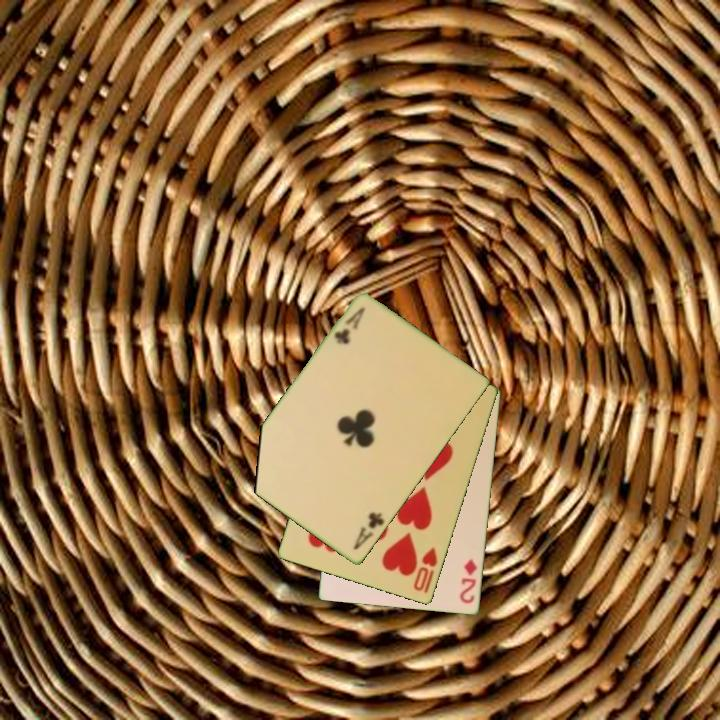10h: (410, 544, 440, 596)
2d: (457, 556, 480, 607)
Ac: (330, 304, 368, 348), (350, 509, 387, 554)
